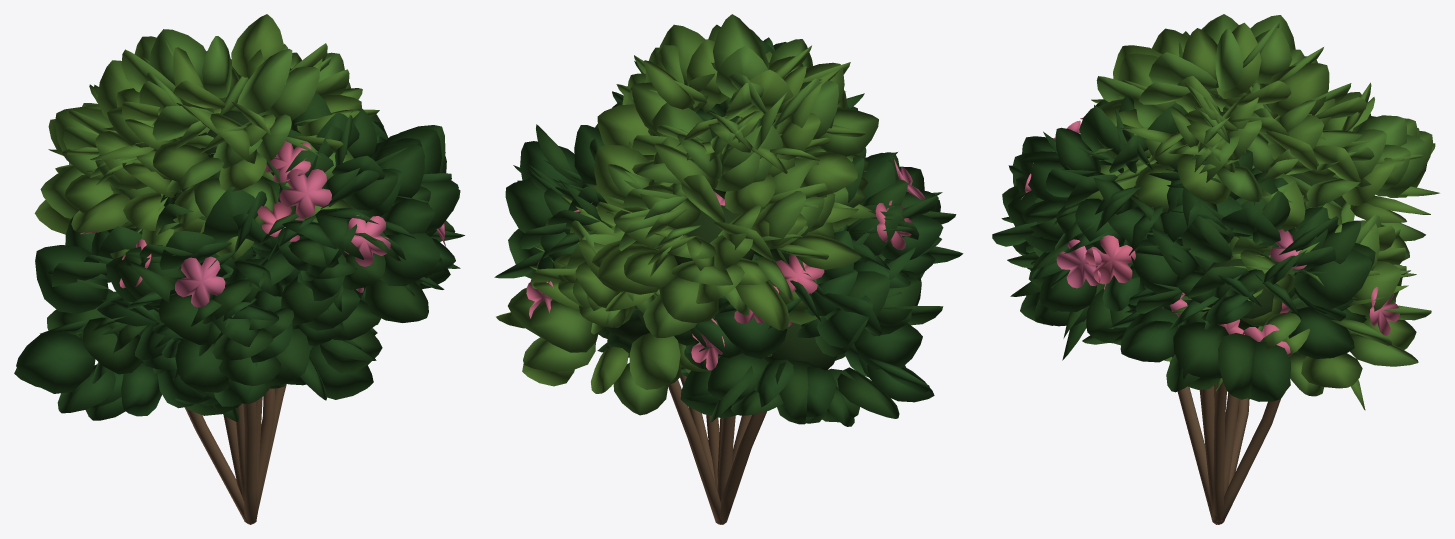
The model's file is bed_flowering_shrub.glb.
3 views of the same model, side by side, from view 1: azimuth 30°, elevation 25°; view 2: azimuth 150°, elevation 25°; view 3: azimuth 270°, elevation 25° (orthographic). The views are drawn at different scales.
Parts seen in each view (by area): view 1: Sammel Pflanze, Sammel Holz; view 2: Sammel Pflanze, Sammel Holz, Sammel Blatt; view 3: Sammel Pflanze, Sammel Holz, Sammel Blatt.
Boxes of the visible parts, x1=… form: Sammel Pflanze: x1=14, y1=14, x2=464, y2=421; Sammel Holz: x1=184, y1=384, x2=286, y2=524; Sammel Pflanze: x1=494, y1=14, x2=963, y2=426; Sammel Holz: x1=668, y1=366, x2=766, y2=524; Sammel Blatt: x1=605, y1=115, x2=837, y2=370; Sammel Pflanze: x1=992, y1=14, x2=1439, y2=410; Sammel Holz: x1=1169, y1=354, x2=1292, y2=524; Sammel Blatt: x1=1185, y1=111, x2=1345, y2=330.
Size of the model in its own units: 0.7614 by 0.8292 by 0.6998.
